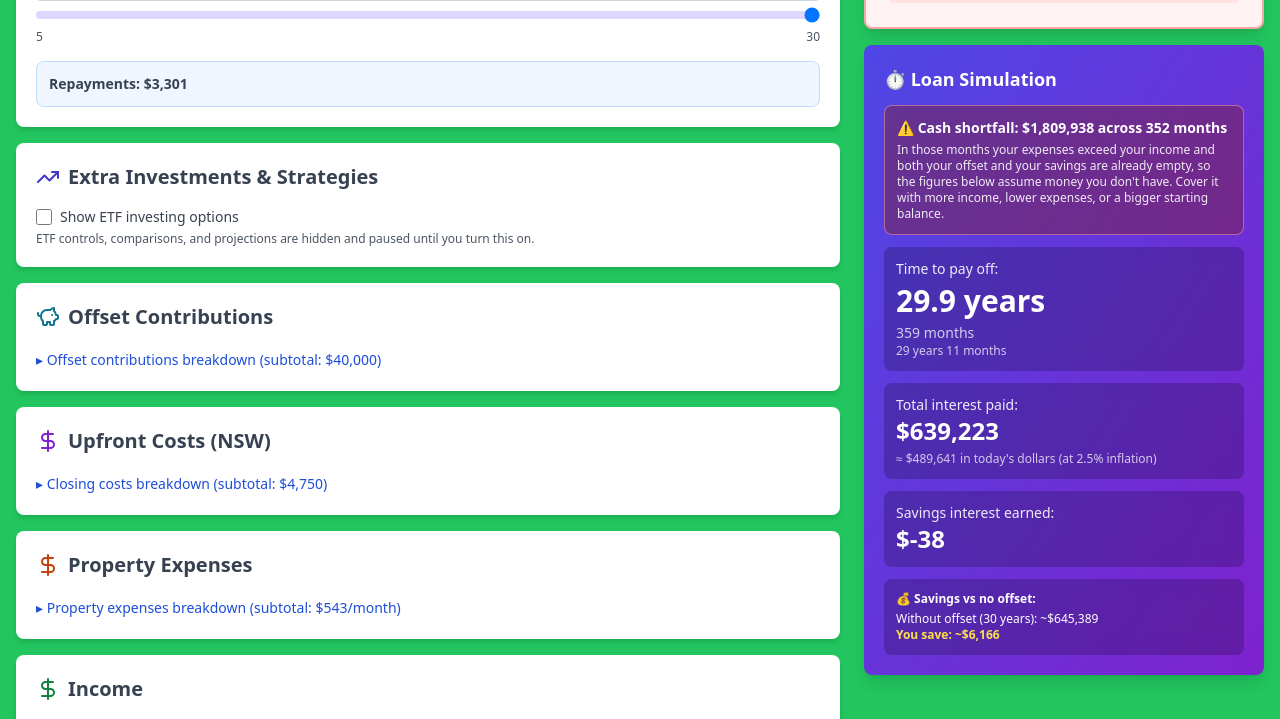
Test: The baseline arm keeps the cash it never spent (TODO-176) › still produces a usable baseline when the contributions overshot the leftover cash
(page scrolled)
Click the button "▸ Offset contributions breakdown (subtotal: $40,000)" at point(209, 360), box [36, 350, 381, 370]
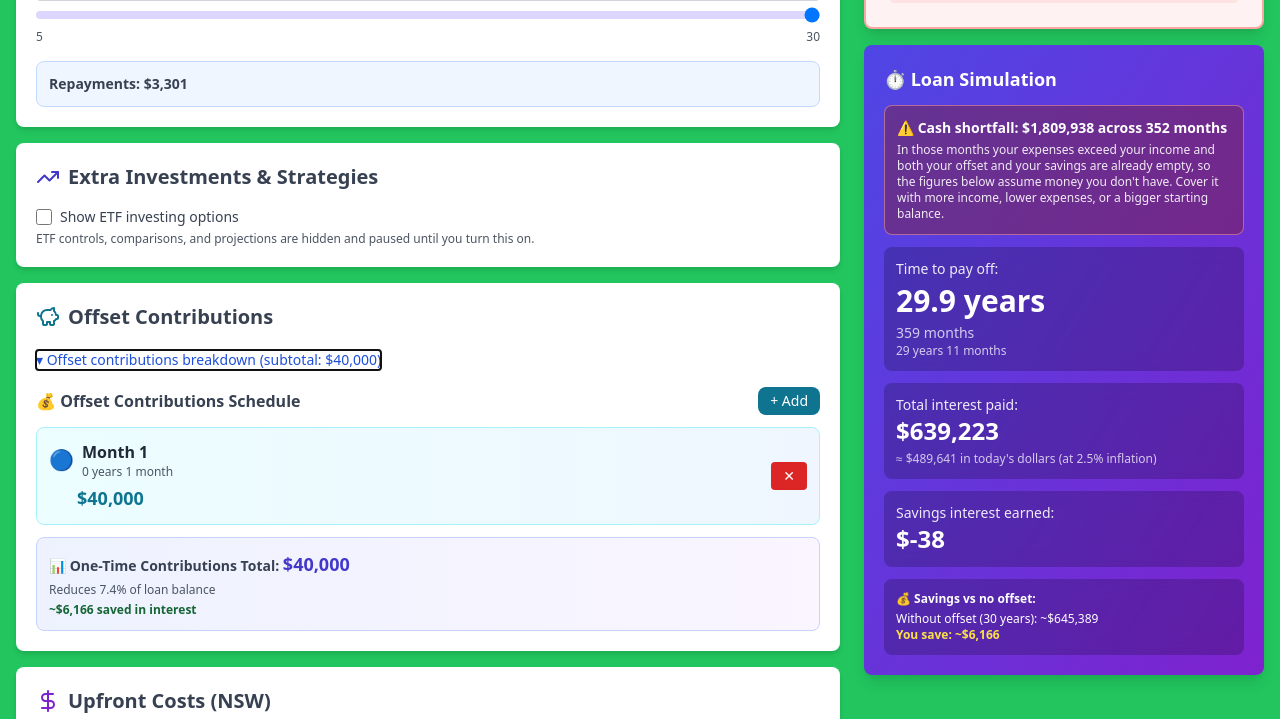
Check: the text "~$6,166 saved in interest" is shown, box [49, 601, 197, 618]
